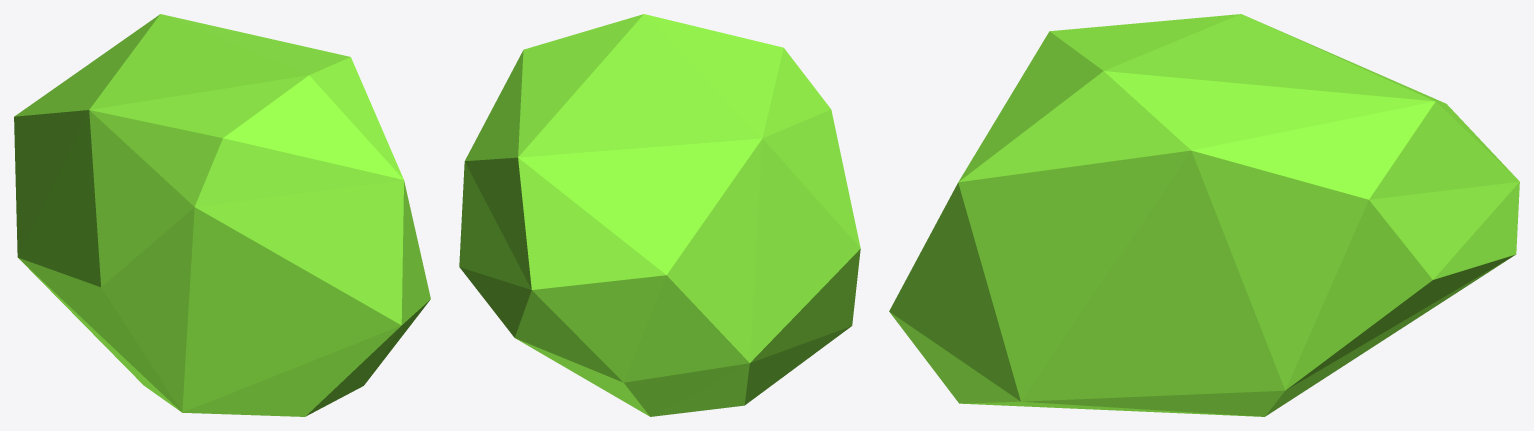
File: bush_small2.fbx
The picture shows the model from 3 angles, left to right: view 1: azimuth 30°, elevation 25°; view 2: azimuth 150°, elevation 25°; view 3: azimuth 270°, elevation 25°; orthographic projection. The views are drawn at different scales.
Parts seen in each view (by area): view 1: bushSmall2; view 2: bushSmall2; view 3: bushSmall2.
Boxes of the visible parts, box(x1,y1,x2,y2) form: bushSmall2: box(14, 14, 430, 416); bushSmall2: box(459, 14, 860, 416); bushSmall2: box(889, 14, 1519, 416).
Bounding box in the file's own units: 0.6601 × 0.6567 × 0.9843.
